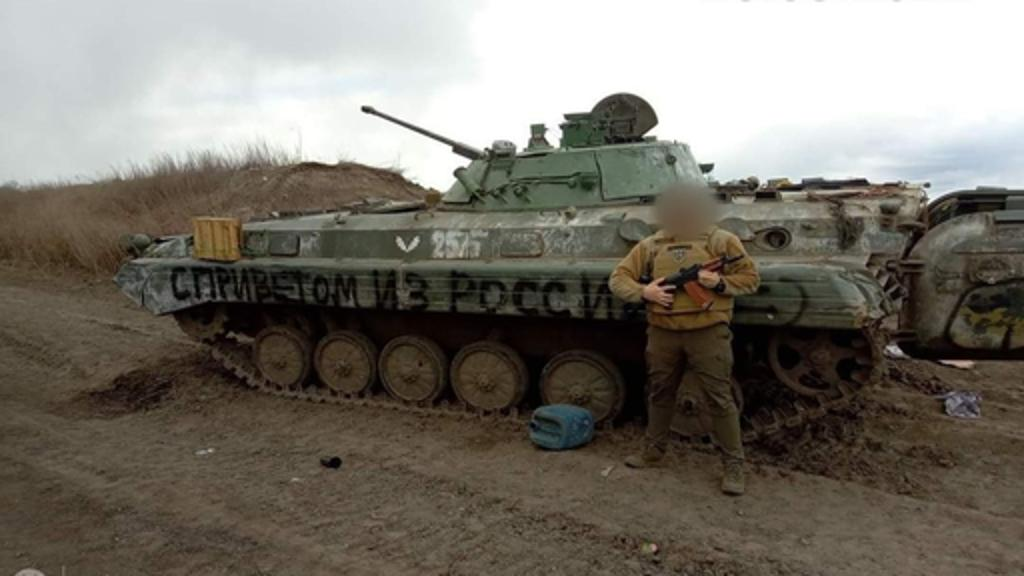APC-IFV: (120, 90, 924, 446)
